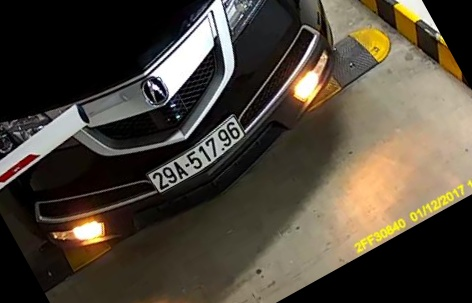plate: (145, 110, 245, 204)
